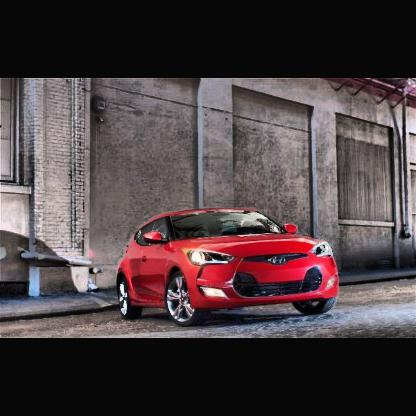Hyundai Veloster Hatchback 2012: (115, 206, 343, 327)
